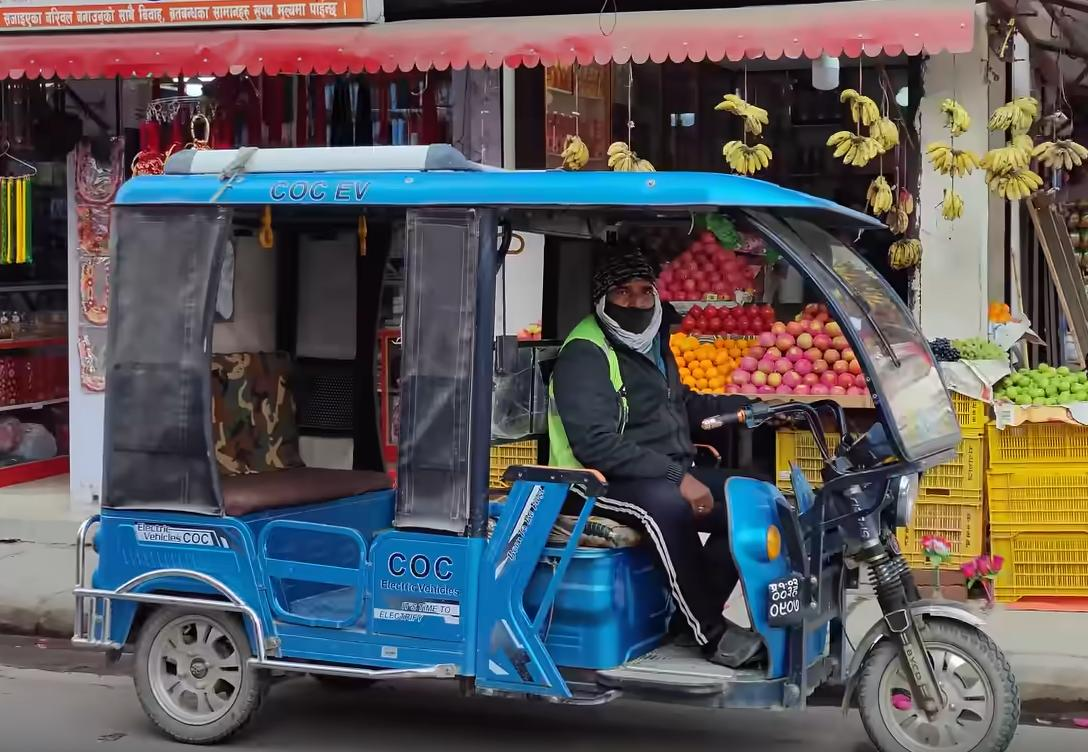e-rickshaw: (82, 134, 1022, 752)
